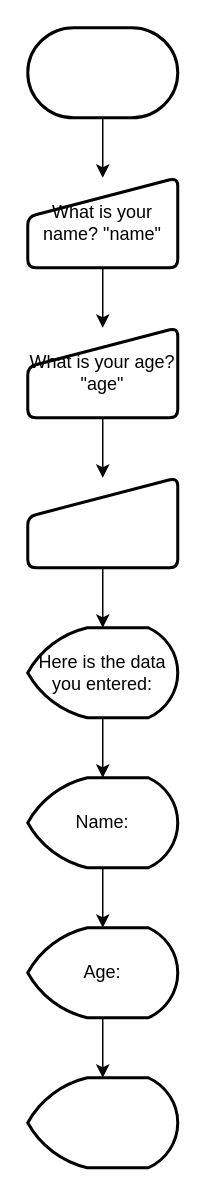
The diagram is 204 pixels wide and 1194 high, and some of its shapes have lost their labels. The shapes that lost their labels are listed below. From the top down, each one's box as (x1, y1, x2, y2) in pixels, then its label:
(26, 26, 178, 118): Start
(26, 476, 178, 568): What is your income? "income"
(26, 1076, 178, 1168): Income:
